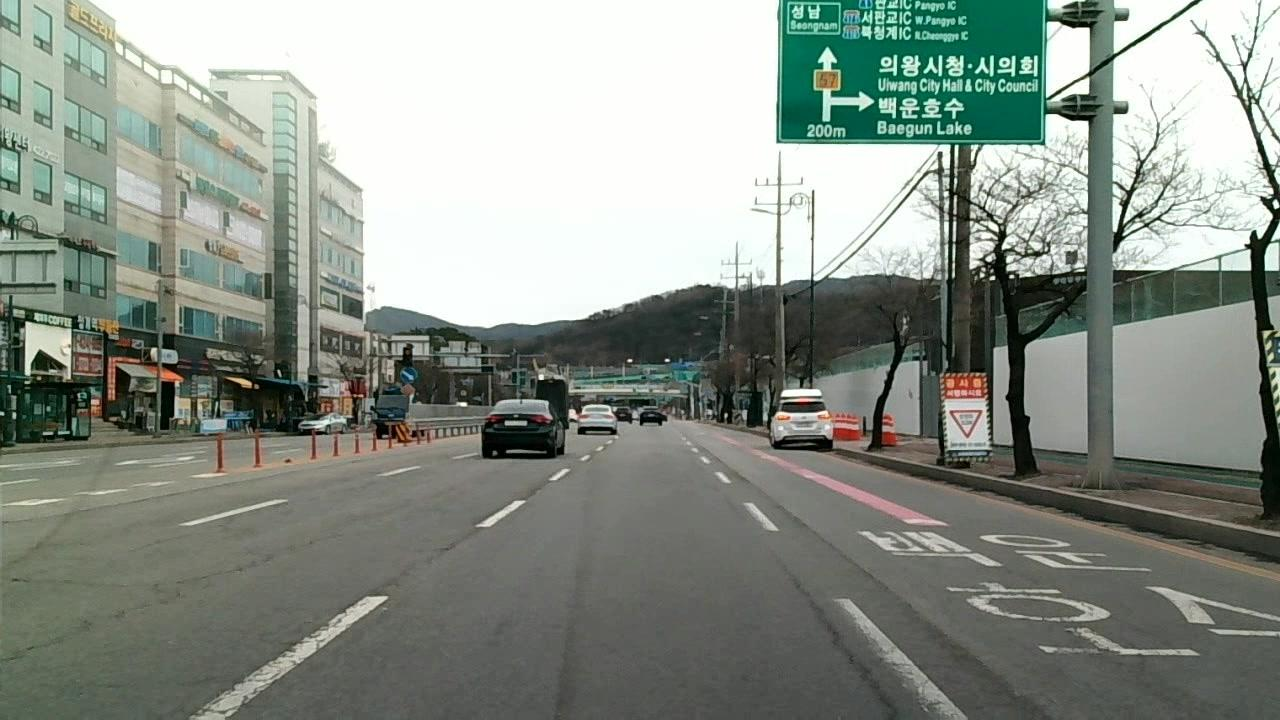hcrack: (5, 570, 129, 590)
vcrack: (785, 571, 887, 719), (892, 595, 1027, 701), (10, 591, 153, 662), (374, 531, 474, 593), (776, 501, 859, 564), (171, 549, 271, 596), (714, 458, 757, 490), (524, 480, 551, 500)
